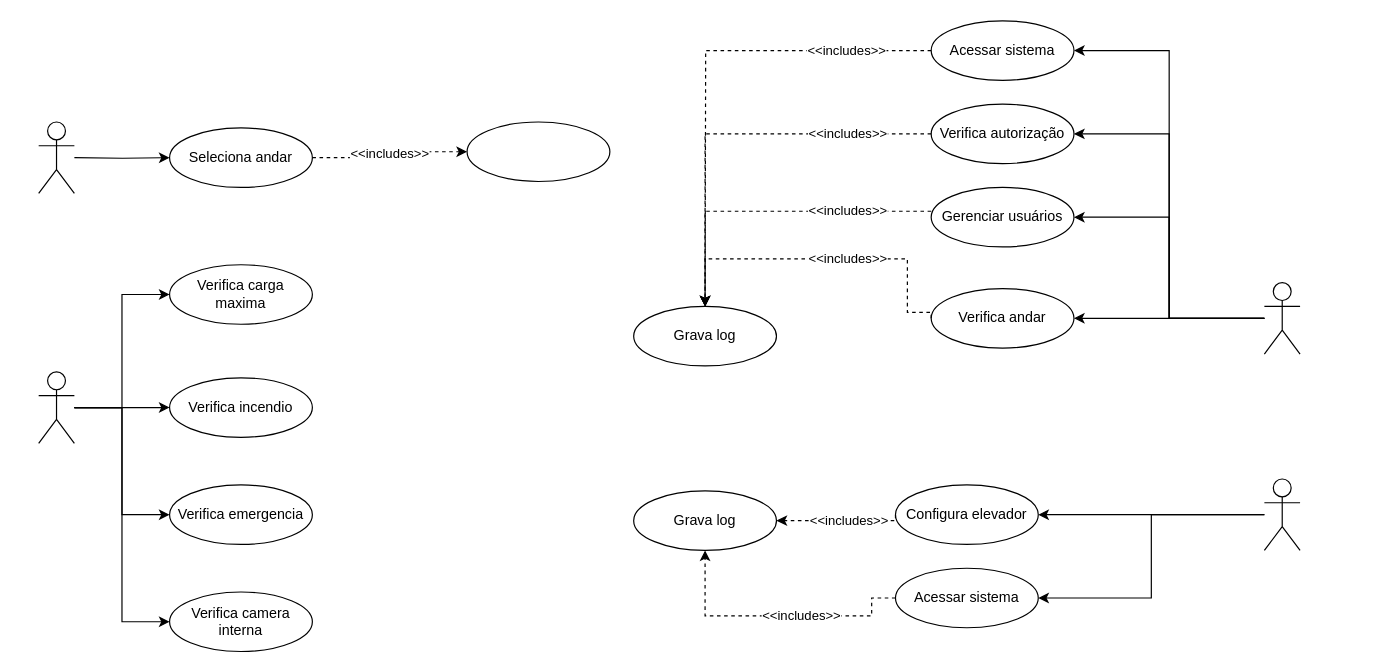
The diagram is 1383 pixels wide and 672 high, and some of its shapes have lost their labels. Here are the shapes that lost their labels. From the top down, the centre of each, then its label:
At pixel 55 157: "Passageiro".
At pixel 538 151: "Interagir com painel".
At pixel 1281 317: "Master".
At pixel 55 407: "Periféricos".
At pixel 1281 514: "Usuario sala de comando".
